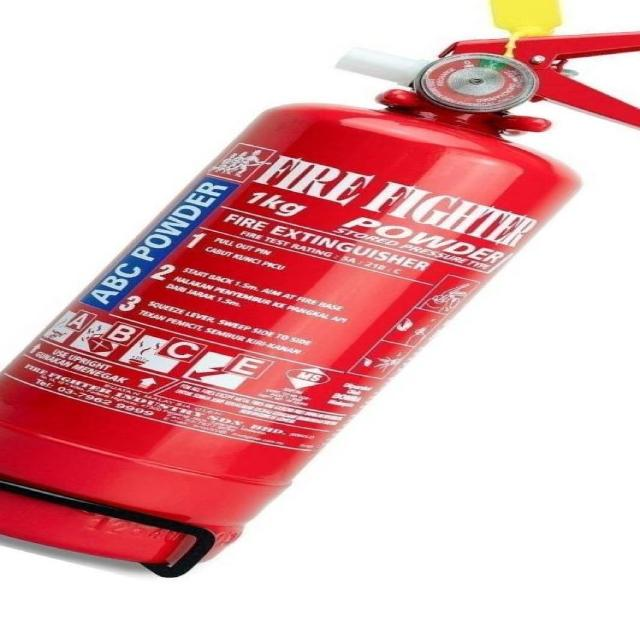fire_extinguisher: (0, 0, 638, 575)
